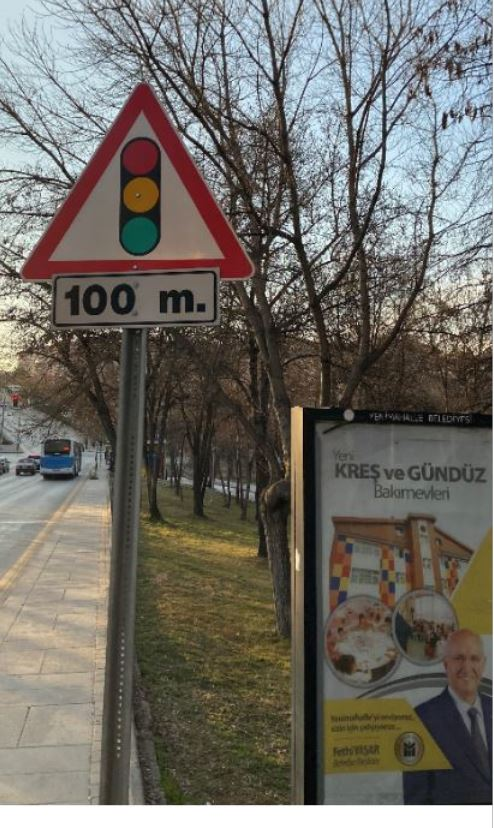Trafikisiklari: (23, 72, 257, 279)
